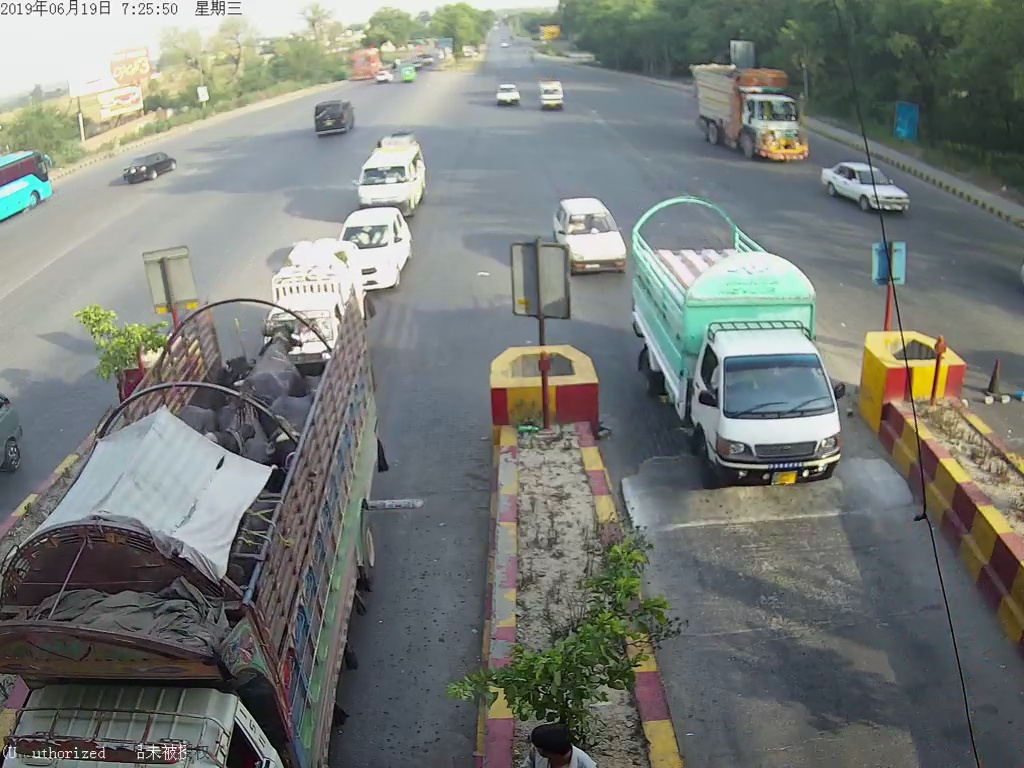Cat-1: (265, 247, 367, 322), (562, 193, 622, 274), (343, 210, 419, 257)
Cat-2: (647, 205, 847, 491)
Cat-4: (29, 369, 398, 726)
